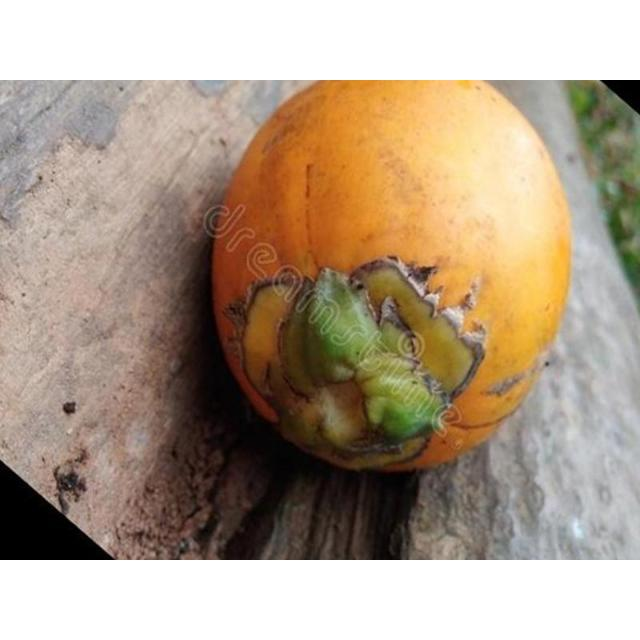good: (204, 80, 578, 476)
